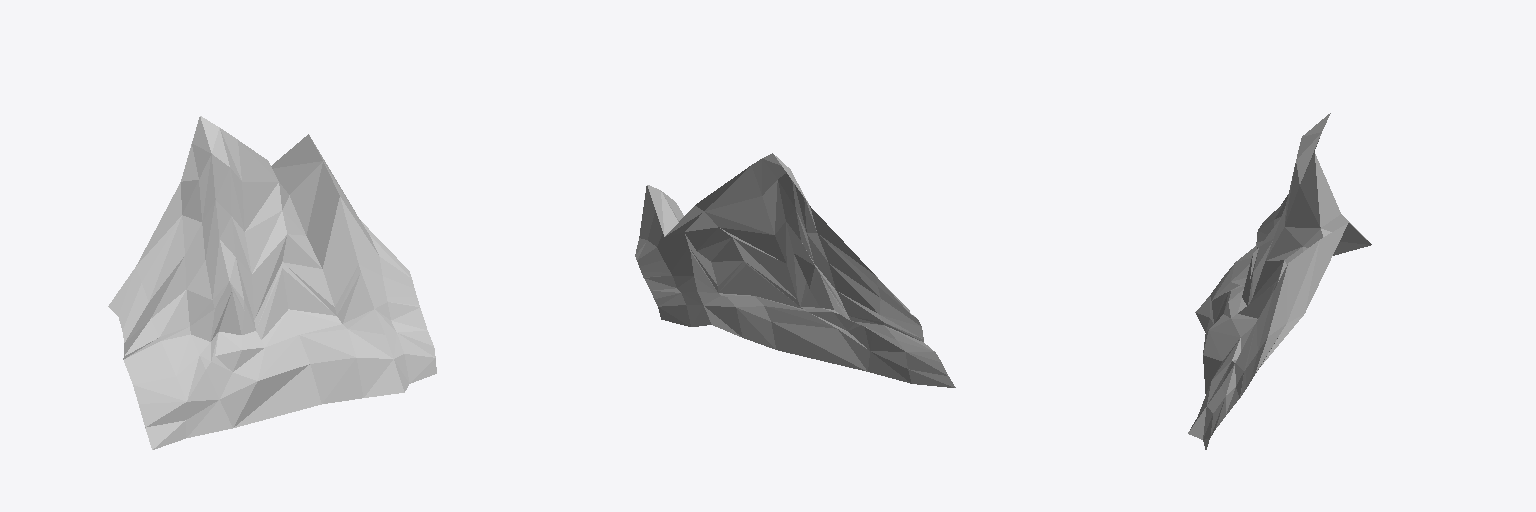
File: berg.obj
3 renders of one model, left to right at view 1: azimuth 30°, elevation 25°; view 2: azimuth 150°, elevation 25°; view 3: azimuth 270°, elevation 25°, orthographic.
Visible parts, largest first — view 1: polySurface1; view 2: polySurface1; view 3: polySurface1.
Boxes of the visible parts, box(x1,y1,x2,y2) form: polySurface1: box(108, 116, 436, 449); polySurface1: box(635, 153, 955, 387); polySurface1: box(1188, 113, 1371, 449).
Size of the model in its own units: 75.3 by 63.68 by 41.29.